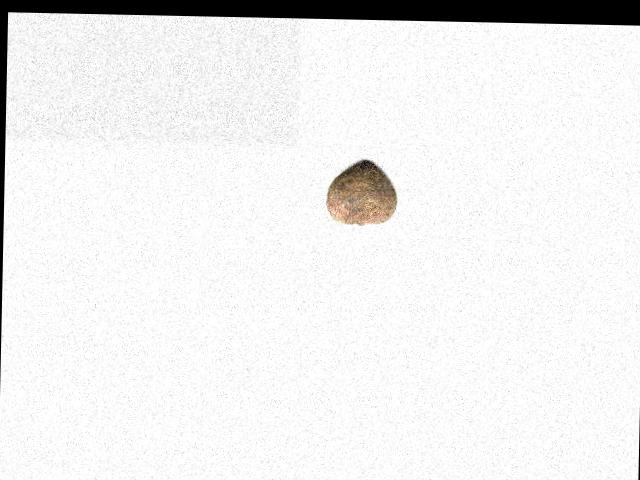beet: (325, 159, 398, 225)
